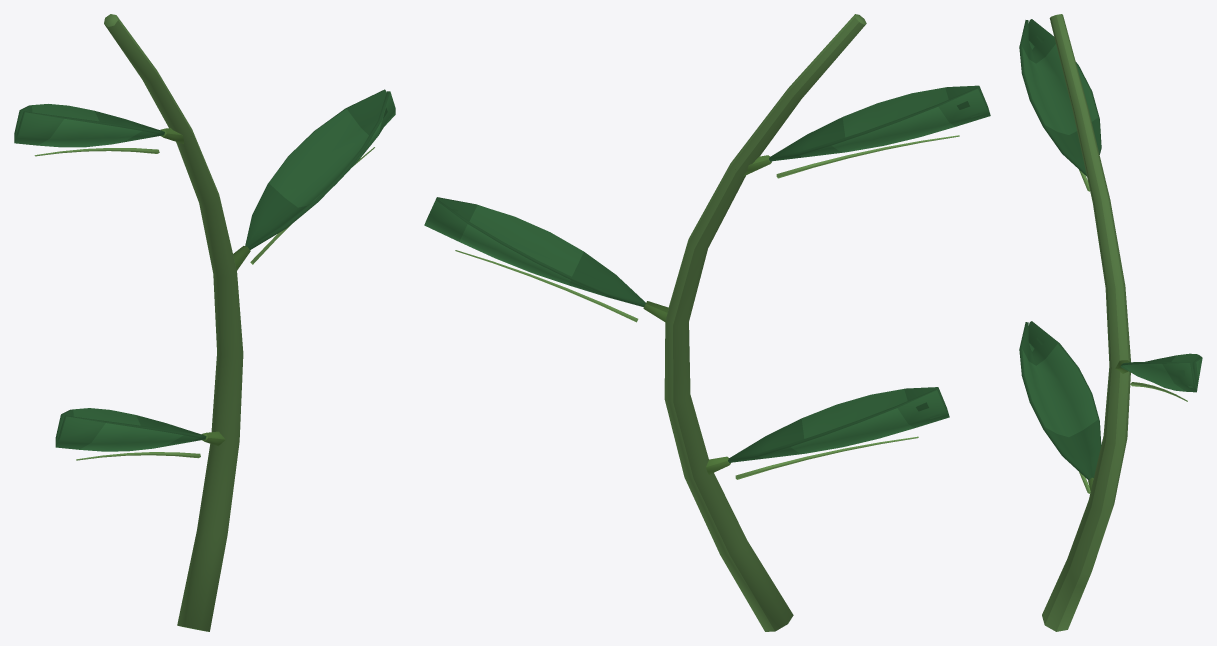
The model's file is garden-zinnia-leaves-stem-3.glb.
3 renders of one model, left to right at view 1: azimuth 30°, elevation 25°; view 2: azimuth 150°, elevation 25°; view 3: azimuth 270°, elevation 25°, orthographic. The views are drawn at different scales.
Parts seen in each view (by area): view 1: zinnia-leaves-stem-3; view 2: zinnia-leaves-stem-3; view 3: zinnia-leaves-stem-3.
Boxes of the visible parts, x1=… form: zinnia-leaves-stem-3: x1=14, y1=14, x2=395, y2=631; zinnia-leaves-stem-3: x1=424, y1=14, x2=990, y2=631; zinnia-leaves-stem-3: x1=1019, y1=14, x2=1202, y2=631.
Bounding box in the file's own units: 0.225 × 0.2885 × 0.0829.
